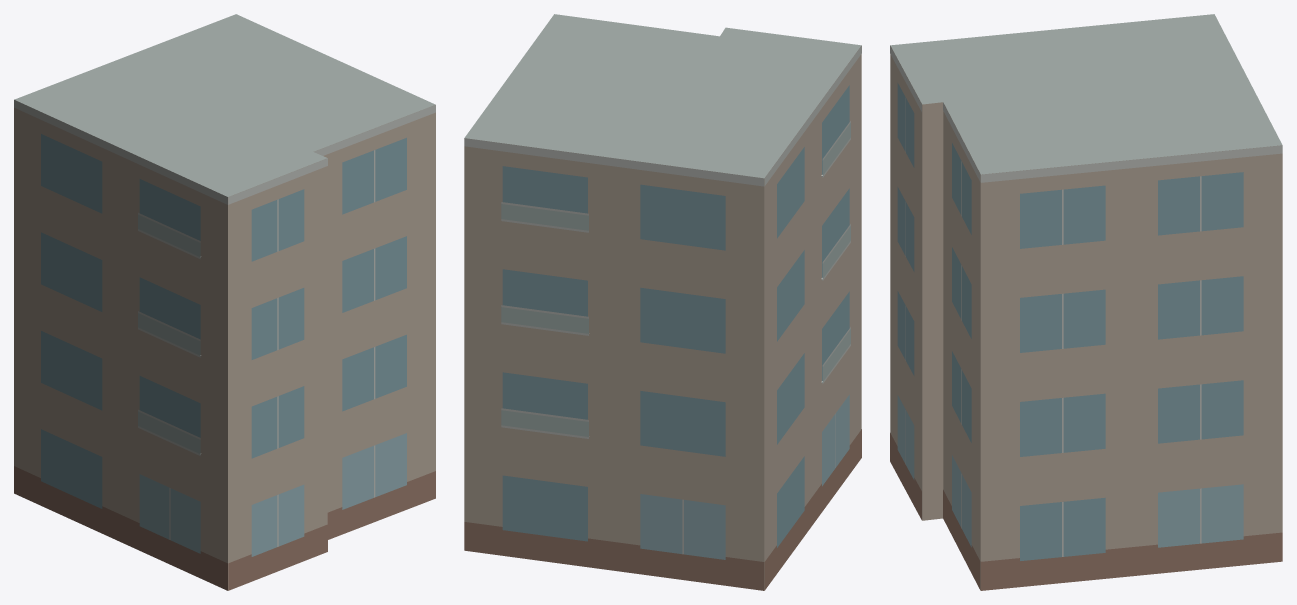
The model's file is survey-upis-32812078.glb.
3 views of the same model, side by side, from view 1: azimuth 30°, elevation 25°; view 2: azimuth 150°, elevation 25°; view 3: azimuth 270°, elevation 25° (orthographic). The views are drawn at different scales.
Visible parts, largest first — view 1: survey-upis-32812078.tmp; view 2: survey-upis-32812078.tmp; view 3: survey-upis-32812078.tmp.
Boxes of the visible parts, x1,y1,x2,y2 form: survey-upis-32812078.tmp: [14, 14, 435, 590]; survey-upis-32812078.tmp: [464, 14, 861, 590]; survey-upis-32812078.tmp: [890, 14, 1282, 590].
Bounding box in the file's own units: 10.1 × 12.2 × 10.43.
